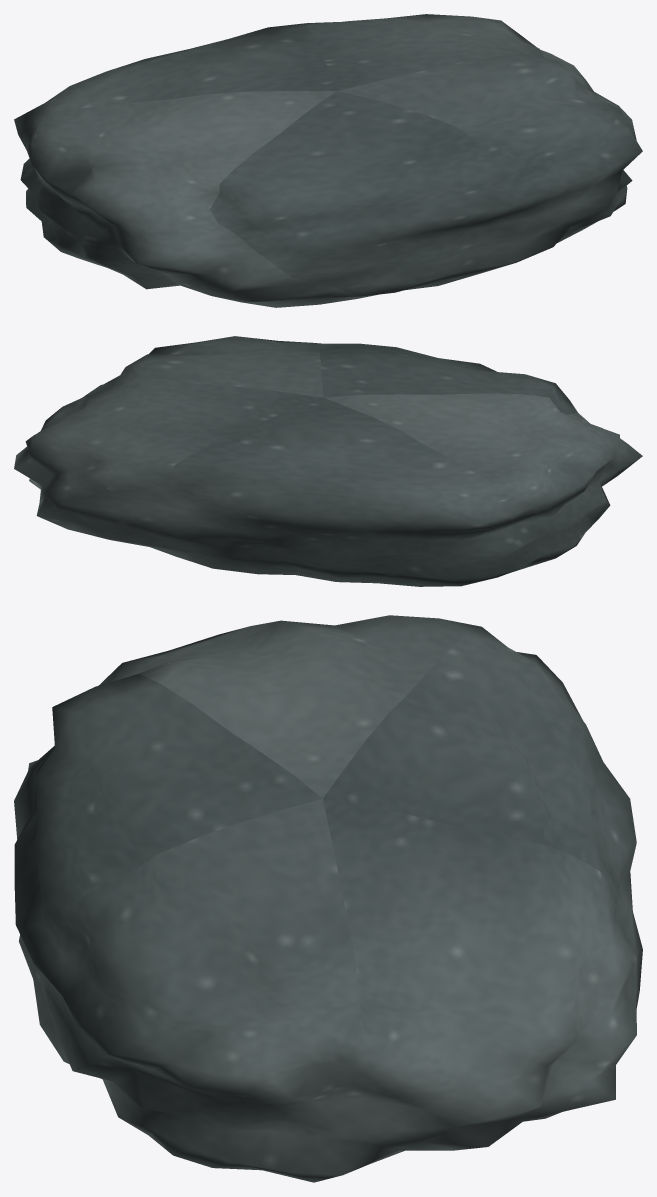
File: NaturalRock_05_FlatSlab.fbx
3 renders of one model, top to bottom at view 1: azimuth 30°, elevation 25°; view 2: azimuth 150°, elevation 25°; view 3: azimuth 270°, elevation 25°, orthographic. The views are drawn at different scales.
Visible parts, largest first — view 1: Rock_Main.004; view 2: Rock_Main.004; view 3: Rock_Main.004.
Boxes of the visible parts, bbox=[...] form: Rock_Main.004: bbox=[14, 14, 642, 307]; Rock_Main.004: bbox=[14, 336, 642, 586]; Rock_Main.004: bbox=[14, 615, 642, 1182].
Size of the model in its own units: 3.06 by 0.789 by 2.05.
1 material, 1 textured.
